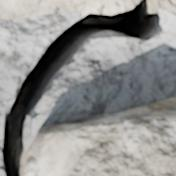brick: (24, 98, 175, 175)
broken_brick: (0, 0, 138, 20), (161, 0, 175, 16)
crack: (2, 0, 173, 175)
